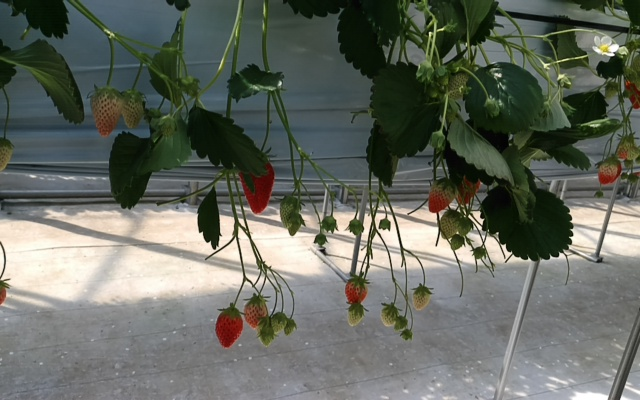GreenStrawberry: (88, 85, 125, 140), (444, 60, 473, 101), (428, 175, 456, 213), (121, 89, 145, 129), (278, 196, 301, 236), (244, 295, 268, 332), (595, 155, 621, 188), (439, 209, 460, 240), (616, 135, 638, 162), (411, 284, 431, 312), (1, 135, 15, 173), (346, 301, 364, 328), (379, 303, 398, 327), (258, 321, 274, 347), (271, 312, 286, 337), (605, 80, 620, 102), (283, 317, 298, 337), (449, 233, 464, 251), (458, 218, 471, 238)
MatureStrawberry: (238, 154, 277, 217), (451, 164, 484, 209), (214, 306, 244, 350), (344, 276, 369, 307), (624, 68, 640, 110)
